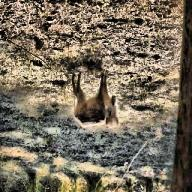boar: (71, 72, 120, 130)
